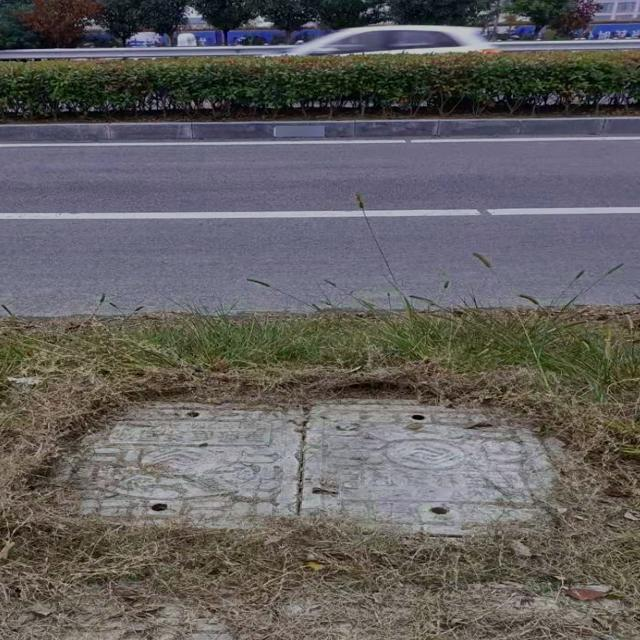good: (51, 398, 571, 532)
